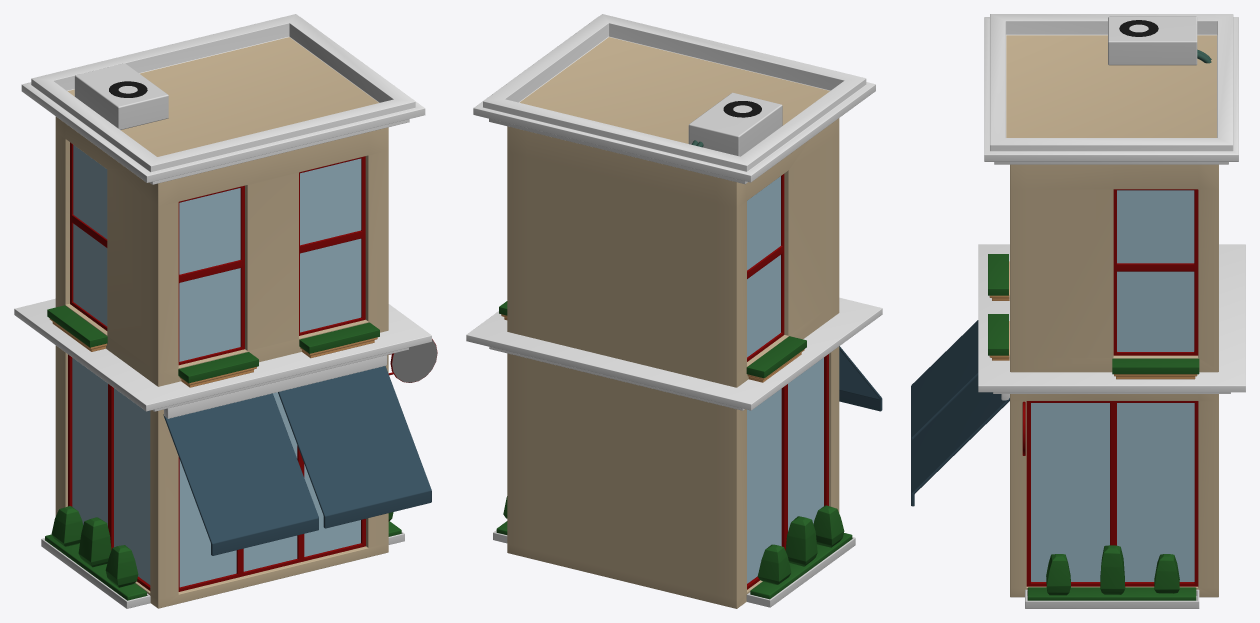
The model's file is Target_CoffeeShop.fbx.
3 views of the same model, side by side, from view 1: azimuth 30°, elevation 25°; view 2: azimuth 150°, elevation 25°; view 3: azimuth 270°, elevation 25° (orthographic).
Visible parts, largest first — view 1: Coffee_Shop1; view 2: Coffee_Shop1; view 3: Coffee_Shop1.
Part boxes in pixels (bbox=[...]): Coffee_Shop1: bbox=[14, 14, 437, 608]; Coffee_Shop1: bbox=[466, 14, 882, 608]; Coffee_Shop1: bbox=[911, 14, 1245, 608].
Size of the model in its own units: 11.05 by 15.66 by 10.07.
